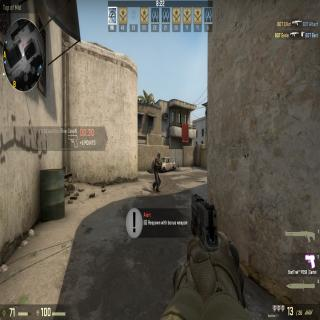T-Body: (153, 151, 161, 191)
T-Head: (156, 152, 161, 159)
